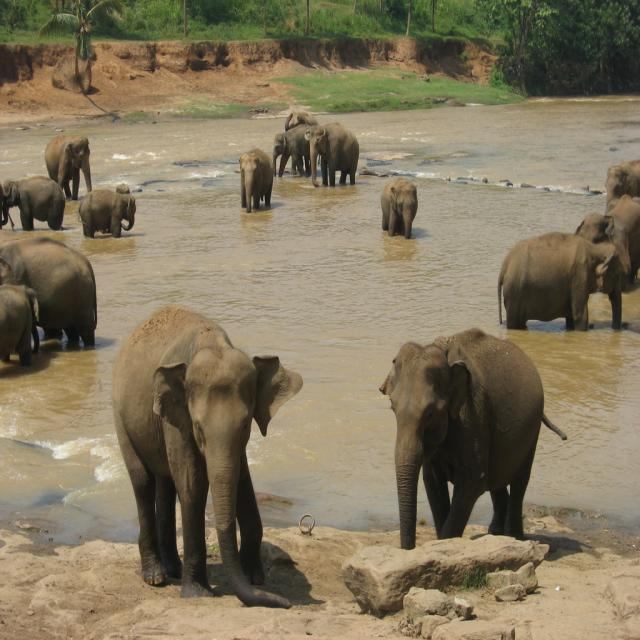elephant: (109, 315, 302, 595), (382, 322, 566, 550), (0, 235, 102, 359), (495, 235, 620, 328), (307, 120, 361, 200), (0, 167, 65, 232), (0, 281, 51, 359), (77, 185, 138, 247), (274, 123, 329, 185), (51, 130, 97, 197), (372, 178, 427, 230), (239, 143, 272, 211), (289, 105, 310, 141)
